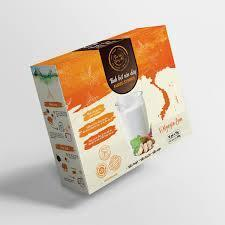box: (31, 25, 194, 195)
